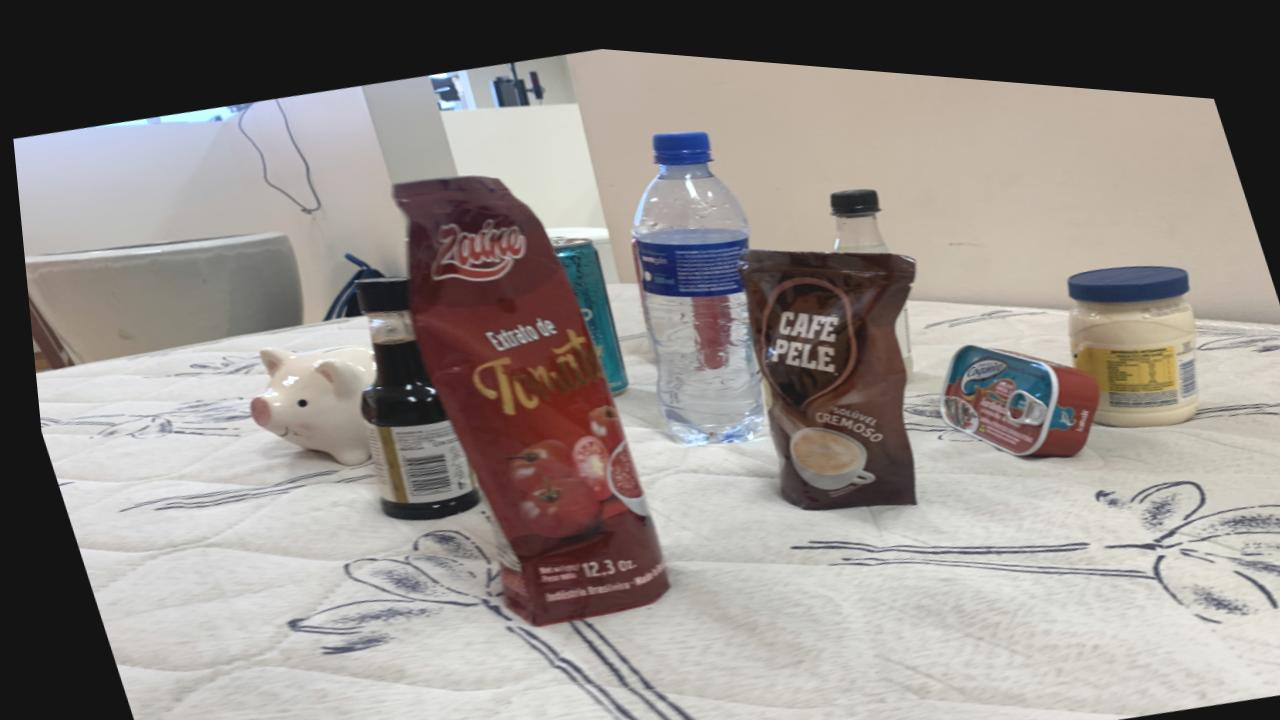Coffee-Pantry_Items: (734, 236, 911, 496)
English_Sauce-Pantry_Items: (349, 270, 470, 513)
Mayonnaise-Pantry_Items: (1062, 245, 1193, 408)
Pig_Safe-Miscellaneous: (242, 340, 369, 460)
Soda-Drinks: (826, 173, 884, 239), (890, 296, 906, 357)
Tea-Drinks: (545, 227, 621, 386)
Tomato_Sauce-Pantry_Items: (390, 168, 658, 616), (460, 302, 462, 305)
Tuna_Can-Pantry_Items: (933, 328, 1092, 438)
Water_Bottle-Drinks: (627, 119, 757, 433)
